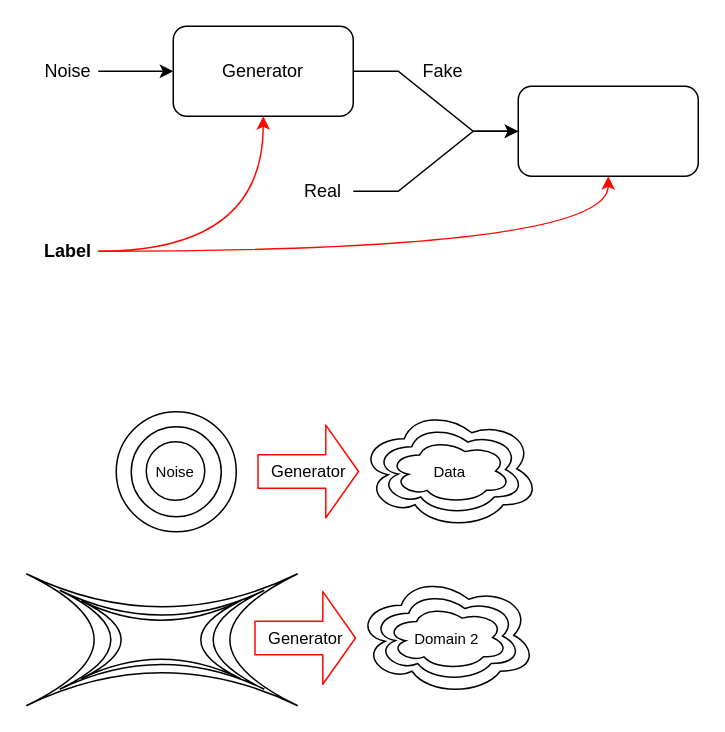
Image size: 725x732. Some labels were removed from this diagram. The centre of each missing label's shape, as x and y in pixels:
Discriminator: (x=607, y=130)
Domain 1: (x=160, y=639)
